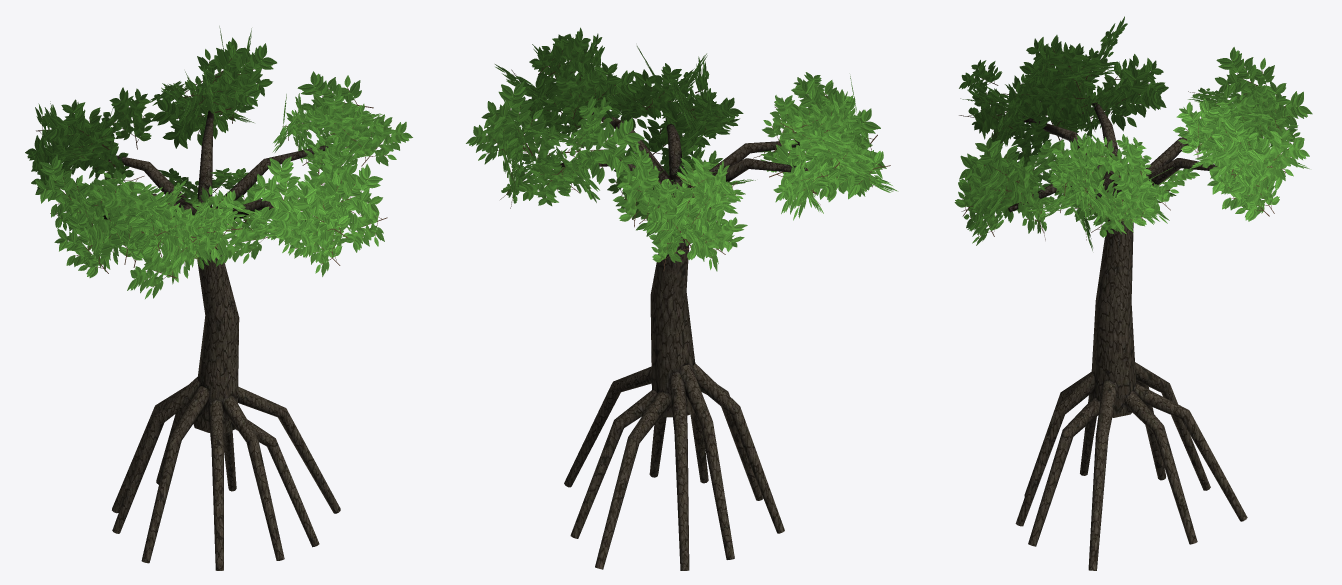
Rendered from brejo_mangue.glb.
The picture shows the model from 3 angles, left to right: view 1: azimuth 30°, elevation 25°; view 2: azimuth 150°, elevation 25°; view 3: azimuth 270°, elevation 25°; orthographic projection. The views are drawn at different scales.
Parts seen in each view (by area): view 1: mangue_folhas, brejo_mangue_tronco; view 2: mangue_folhas, brejo_mangue_tronco; view 3: mangue_folhas, brejo_mangue_tronco.
Boxes of the visible parts, x1,y1,x2,y2 form: mangue_folhas: (25,26,412,298); brejo_mangue_tronco: (103,110,340,570); mangue_folhas: (466,27,898,271); brejo_mangue_tronco: (559,112,807,570); mangue_folhas: (954,16,1312,250); brejo_mangue_tronco: (1008,96,1247,570).
Size of the model in its own units: 5.26 by 5.89 by 4.55.
Materials: 2 (2 with a texture image).
